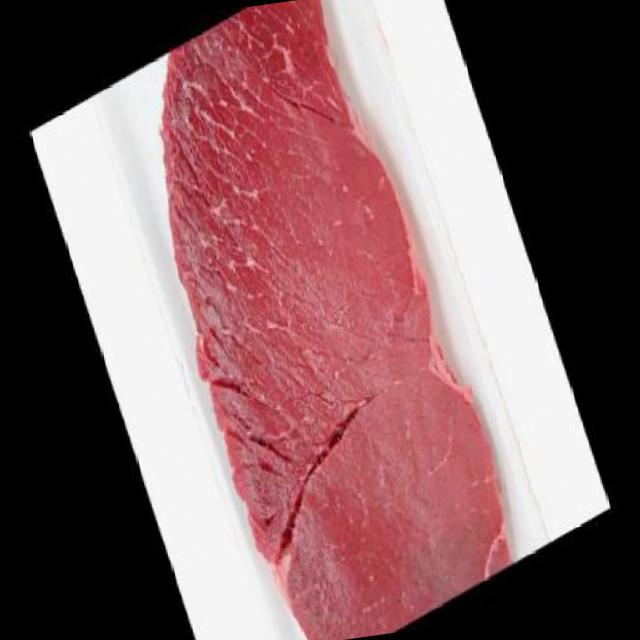beef: (93, 0, 533, 640)
